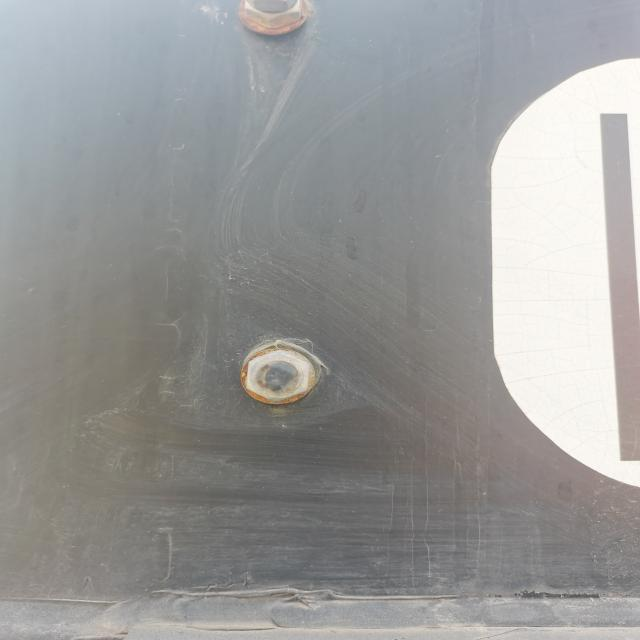bolt nut: (242, 348, 312, 406)
